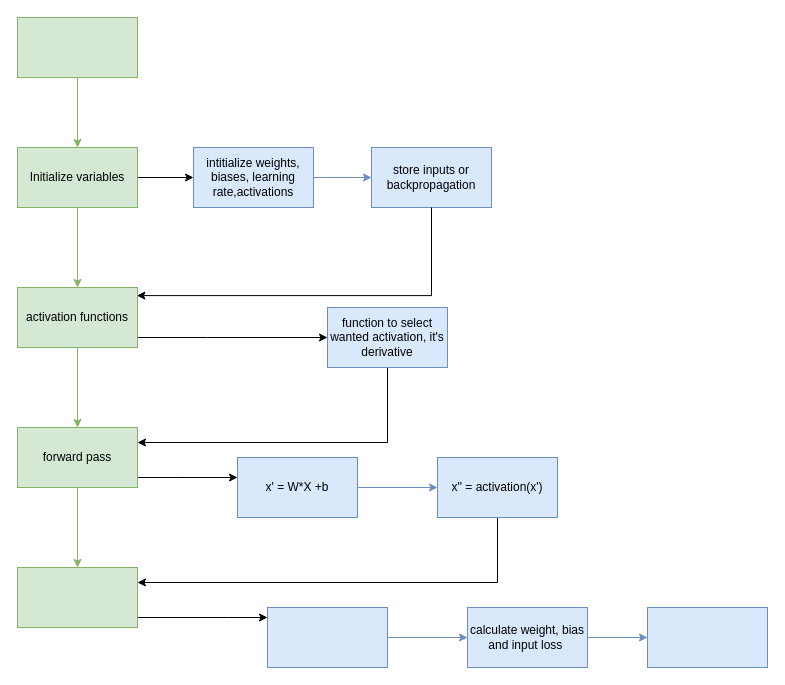
The diagram is 785 pixels wide and 685 high, and some of its shapes have lost their labels. The box of each missing label's shape, as (x1, y1, x2, y2) in pixels:
backward pass: (16, 566, 138, 628)
calculate activation gradient: (266, 606, 388, 668)
Start: (16, 16, 138, 78)
update wights, biases, pass input loss: (646, 606, 768, 668)
